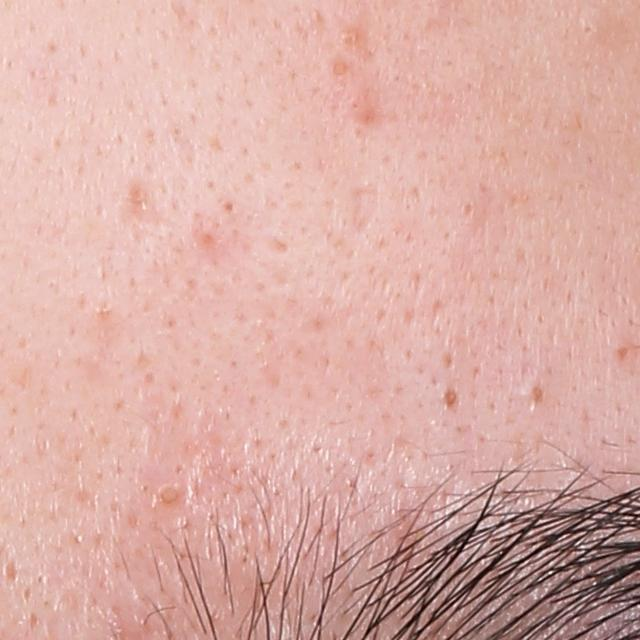atrophic_scar: (352, 179, 385, 243)
comedo: (324, 56, 354, 85), (573, 17, 604, 41), (333, 25, 362, 50), (439, 382, 467, 407), (158, 484, 184, 507), (525, 382, 547, 408), (220, 199, 241, 220), (459, 198, 477, 218)
